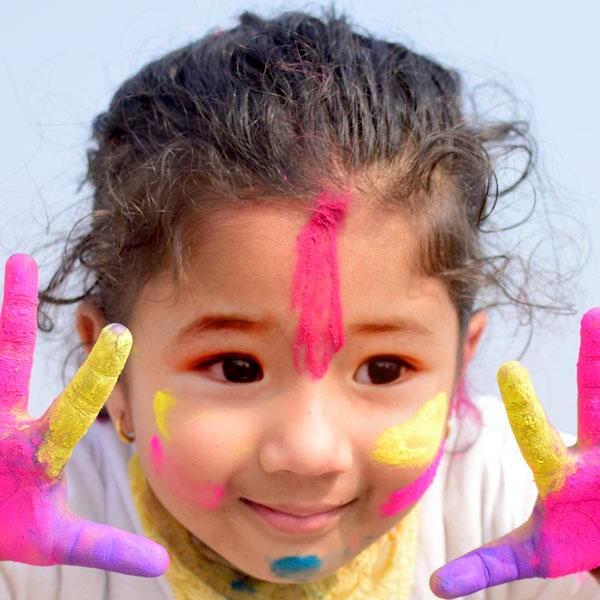Eyes: (182, 336, 271, 392), (344, 342, 428, 397)
